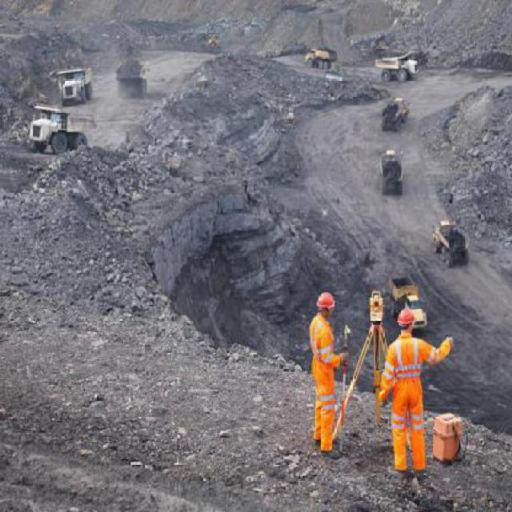hardhat: (394, 306, 420, 330), (314, 289, 339, 311)
person: (375, 300, 453, 482), (296, 284, 354, 462)
vest: (378, 332, 429, 402), (303, 314, 338, 365)
